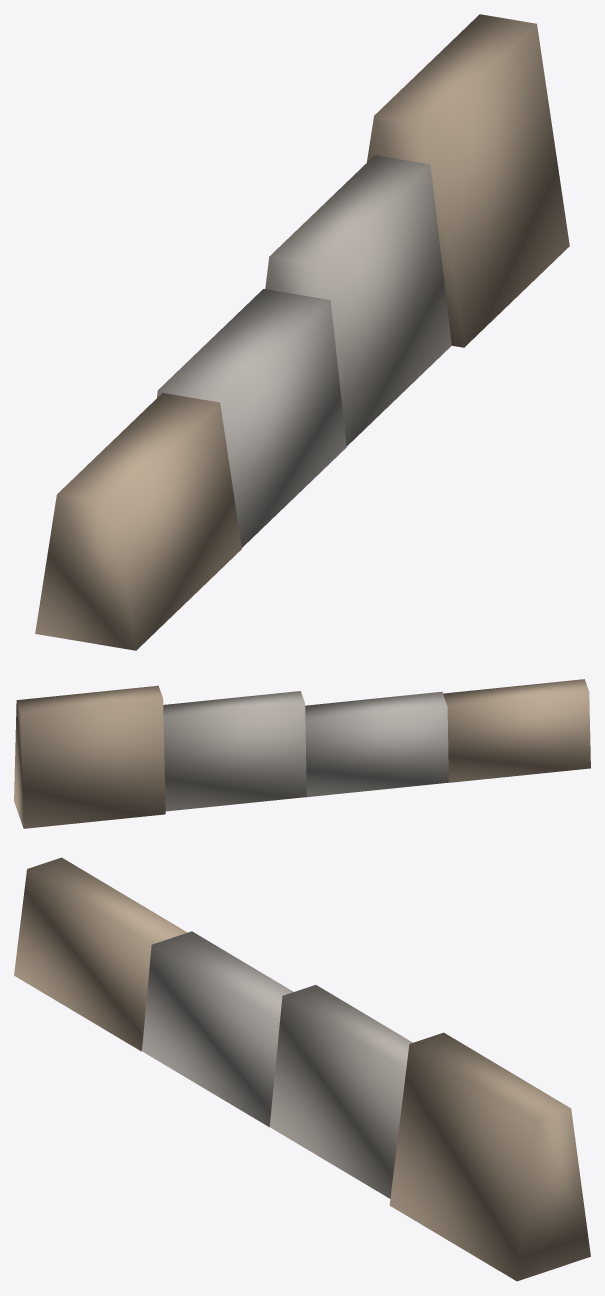
File: farm_15_34_collision.glb
3 renders of one model, top to bottom at view 1: azimuth 30°, elevation 25°; view 2: azimuth 150°, elevation 25°; view 3: azimuth 270°, elevation 25°, orthographic. The views are drawn at different scales.
Parts seen in each view (by area): view 1: geometry_0; view 2: geometry_0; view 3: geometry_0.
Boxes of the visible parts, left/top/right/bottom form: geometry_0: left=35, top=14, right=569, bottom=650; geometry_0: left=14, top=679, right=590, bottom=828; geometry_0: left=14, top=857, right=590, bottom=1281.
Size of the model in its own units: 5.36 by 1.38 by 4.44.
